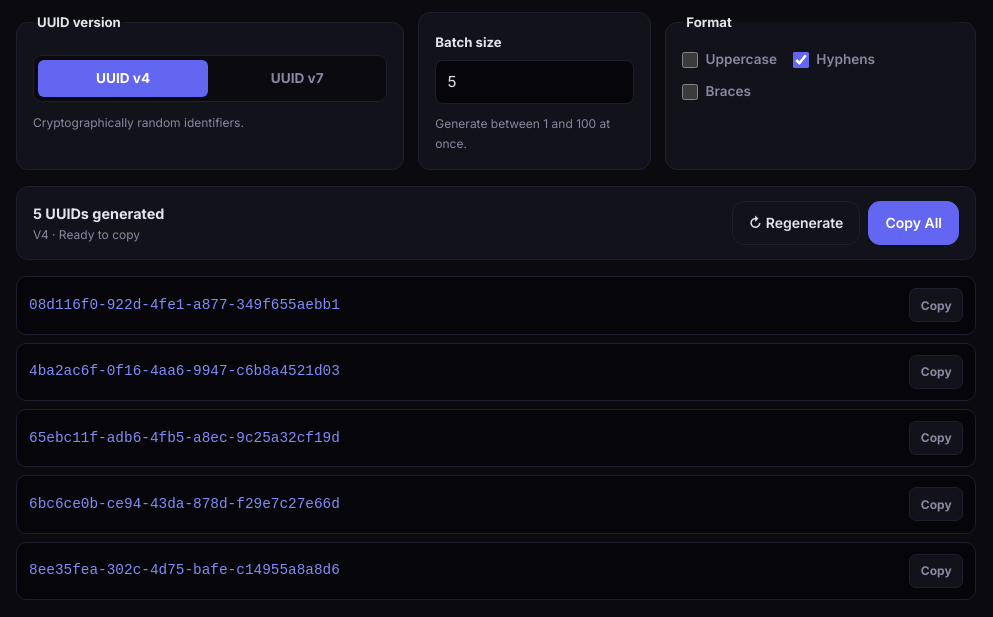
UuidTool generation › clamps the batch size to the supported range
Replace the text in the number field labelled "Batch size" with "101" at (535, 82), box x1=435 y1=60 x2=634 y2=104
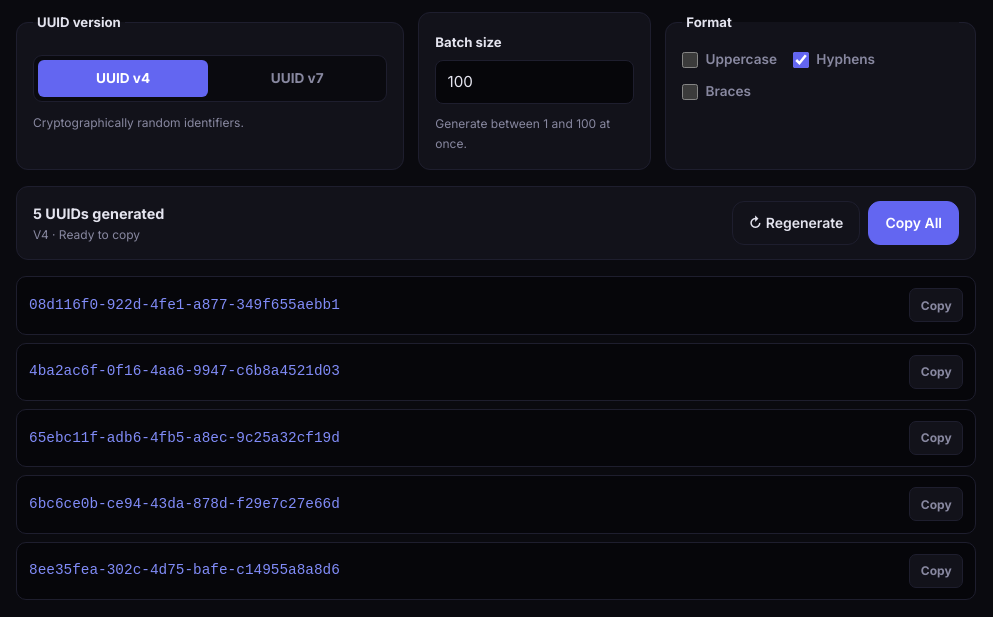
Expected: the number field labelled "Batch size" holds "100"
Replace the text in the number field labelled "Batch size" with "0" at (535, 82), box x1=435 y1=60 x2=634 y2=104
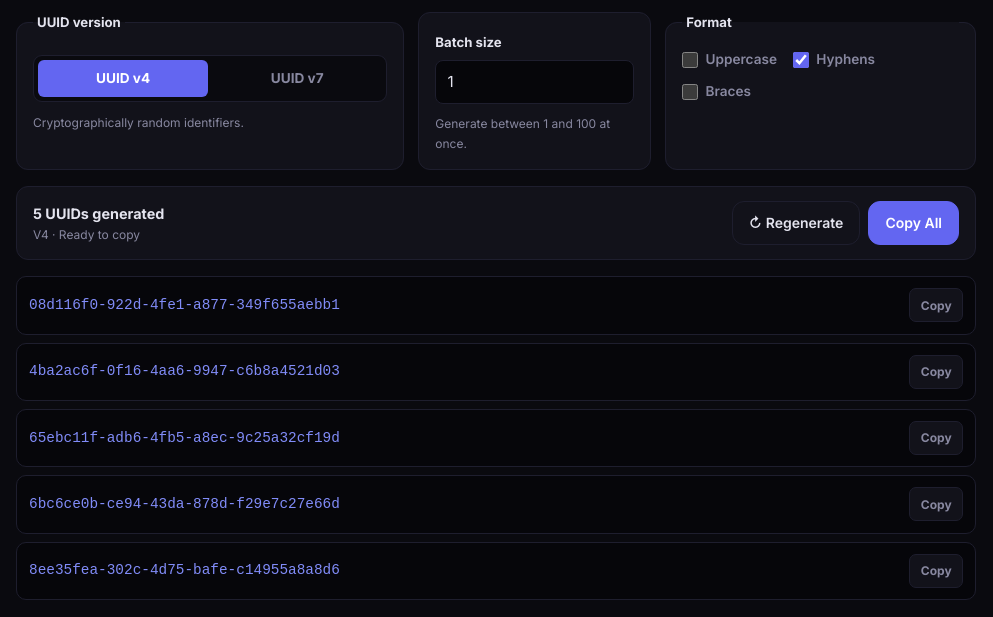
Expected: the number field labelled "Batch size" holds "1", x1=435 y1=60 x2=634 y2=104
